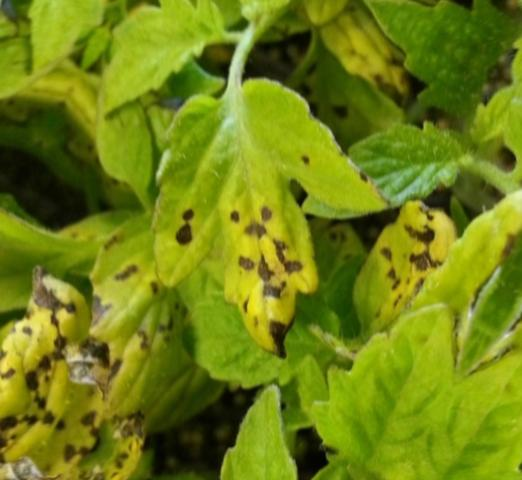Tomato leaf: (78, 0, 244, 154)
Tomato leaf bacterial spot: (92, 28, 420, 368), (314, 169, 479, 375)
